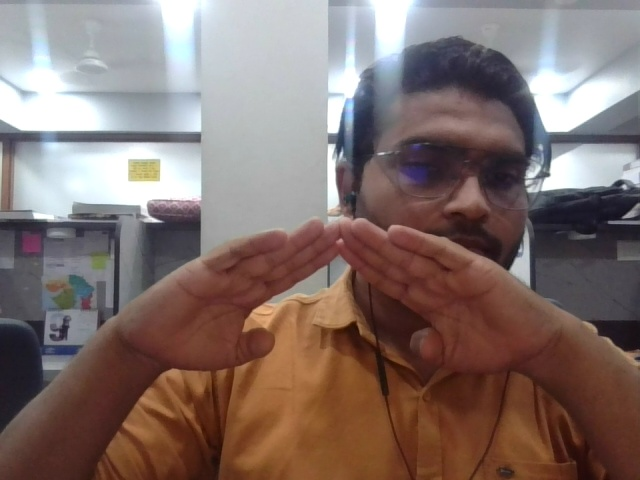ThankYou: (152, 212, 521, 388)
